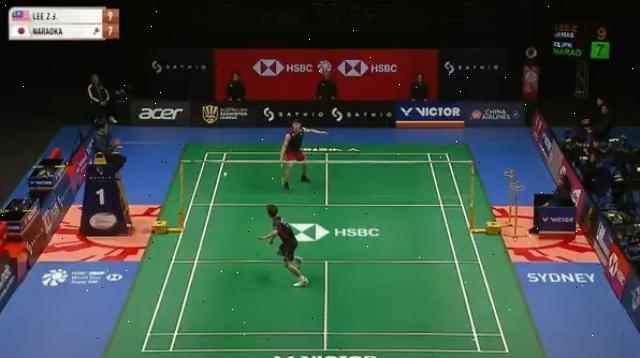Shuttlecock: (221, 170, 231, 180)
